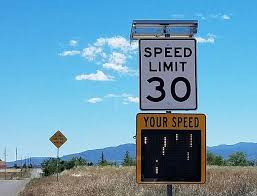speedLimit30: (138, 38, 199, 111)
